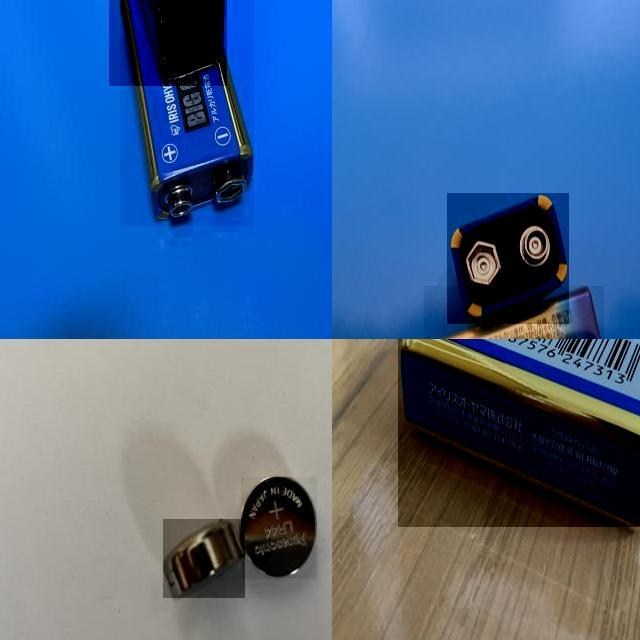9V: (398, 339, 640, 527), (120, 0, 254, 225), (447, 193, 568, 324), (109, 0, 227, 85), (424, 286, 604, 339)
